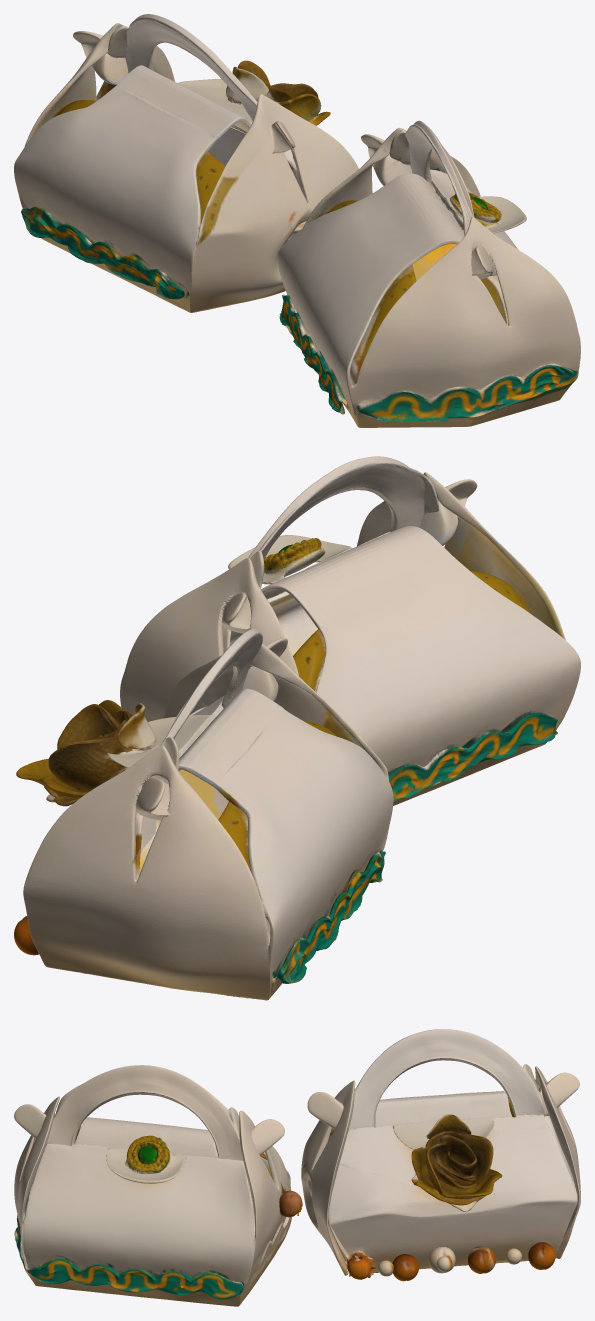
3 renders of one model, top to bottom at view 1: azimuth 30°, elevation 25°; view 2: azimuth 150°, elevation 25°; view 3: azimuth 270°, elevation 25°, orthographic. The views are drawn at different scales.
Visible parts, largest first — view 1: tripo_node_dd3b1a93-045d-4e47-839d-3b436fd7b3d0; view 2: tripo_node_dd3b1a93-045d-4e47-839d-3b436fd7b3d0; view 3: tripo_node_dd3b1a93-045d-4e47-839d-3b436fd7b3d0.
Part boxes in pixels (x1,y1,x2,y2): tripo_node_dd3b1a93-045d-4e47-839d-3b436fd7b3d0: (14, 14, 580, 427); tripo_node_dd3b1a93-045d-4e47-839d-3b436fd7b3d0: (14, 456, 580, 1000); tripo_node_dd3b1a93-045d-4e47-839d-3b436fd7b3d0: (14, 1029, 580, 1306).
Bounding box in the file's own units: 0.5215 × 0.385 × 1.
1 material, 1 textured.
